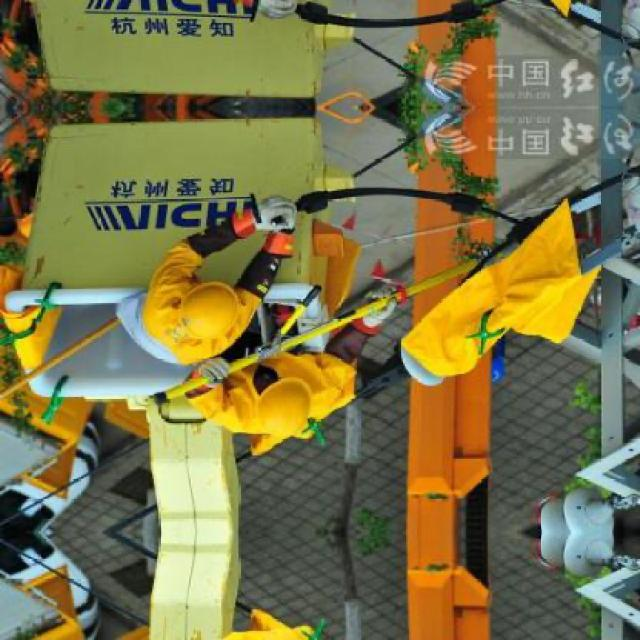con casco: (200, 352, 292, 439), (172, 274, 244, 362)
